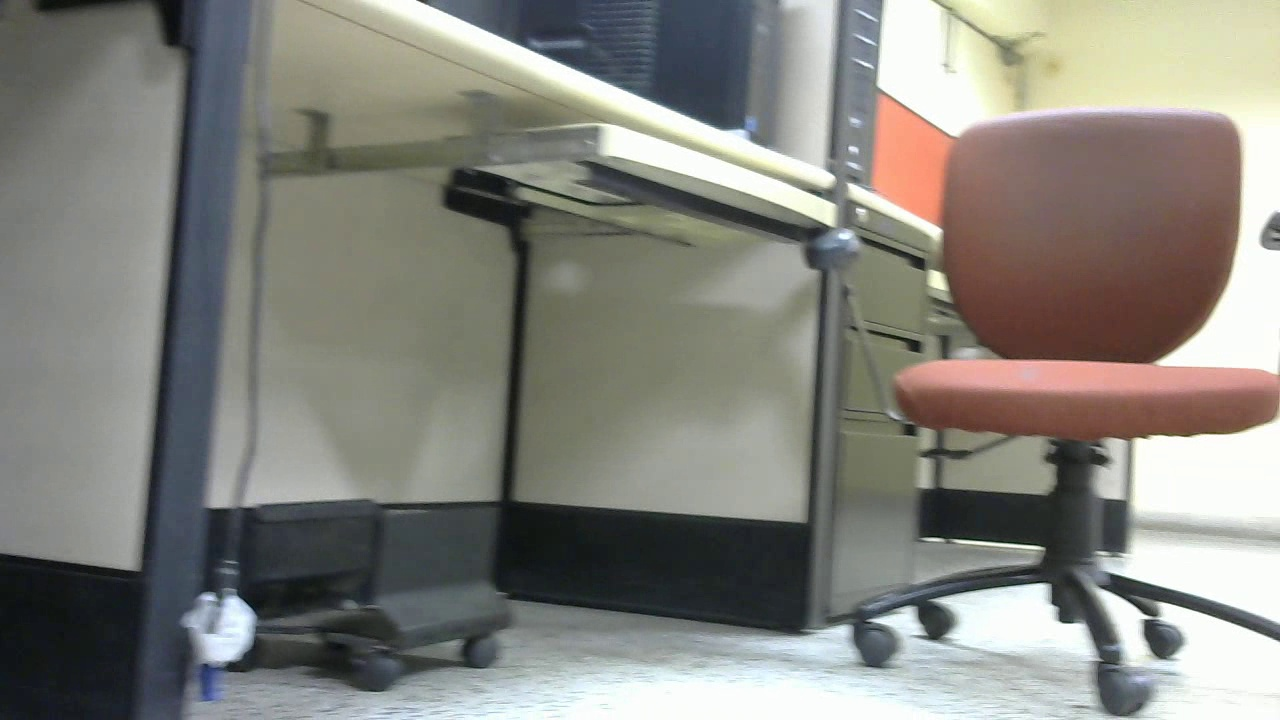chair: (794, 98, 1280, 720)
